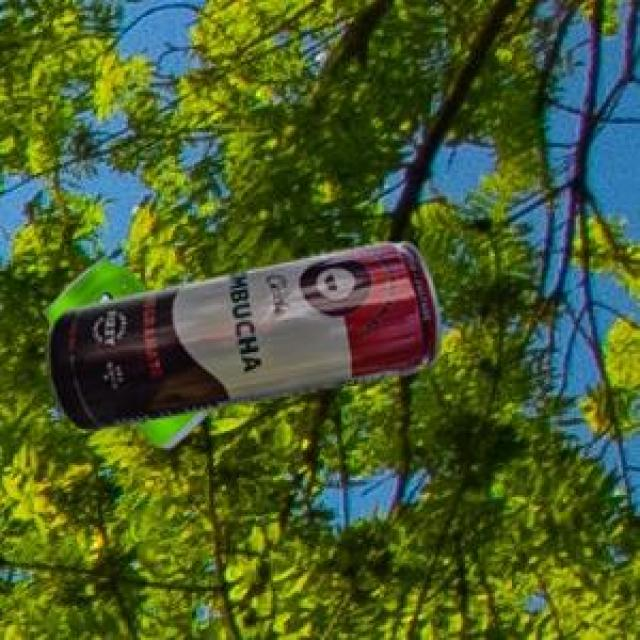logam: (44, 240, 438, 428), (42, 257, 208, 445)
